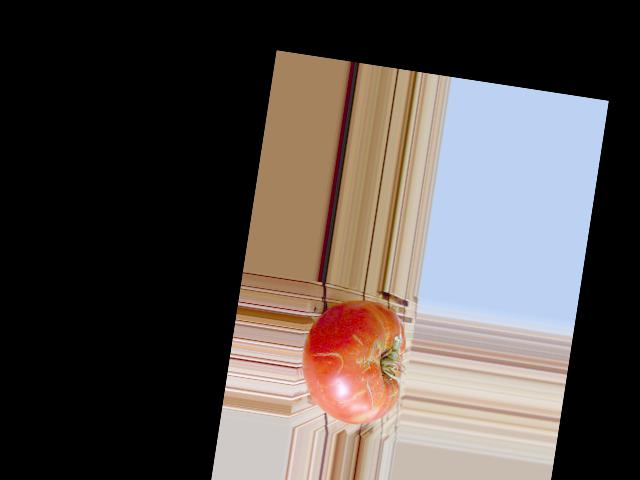tomato: (294, 292, 412, 429)
